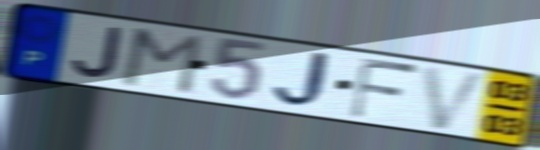5: (208, 36, 269, 104)
F: (346, 54, 422, 121)
J: (270, 49, 340, 110), (70, 25, 126, 81)
M: (118, 26, 206, 97)
V: (419, 64, 491, 132)
